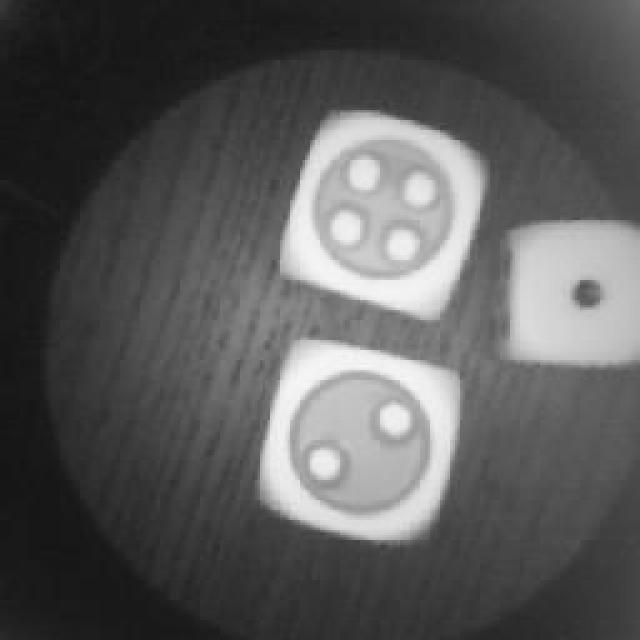dice_1: (502, 220, 640, 375)
dice_2: (255, 338, 467, 550)
dice_4: (285, 108, 490, 322)
